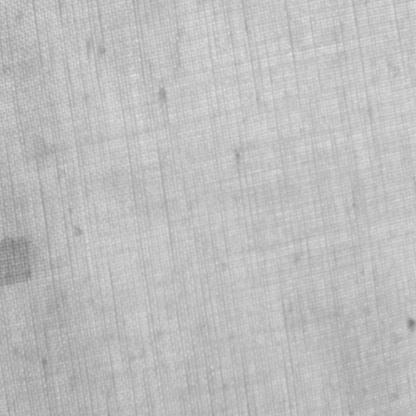oil spot: (1, 233, 35, 288)
